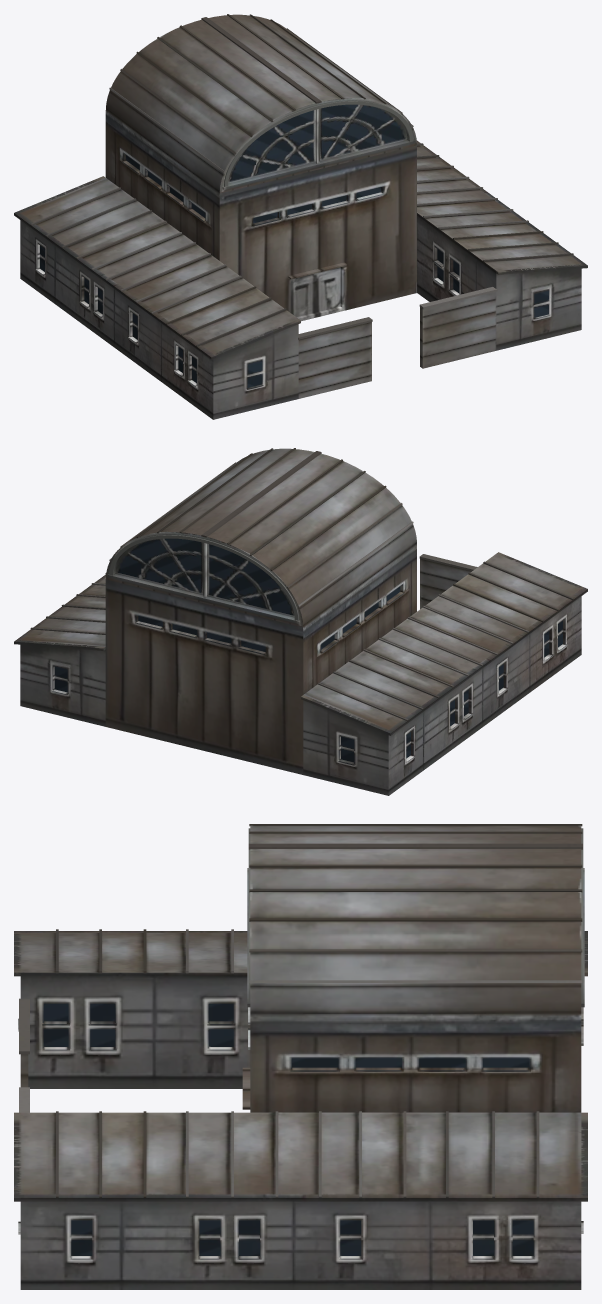
The model's file is meethall_cad.glb.
The picture shows the model from 3 angles, top to bottom: view 1: azimuth 30°, elevation 25°; view 2: azimuth 150°, elevation 25°; view 3: azimuth 270°, elevation 25°; orthographic projection. The views are drawn at different scales.
Visible parts, largest first — view 1: Box01; view 2: Box01; view 3: Box01.
Boxes of the visible parts, left/top/right/bottom form: Box01: left=14, top=14, right=587, bottom=419; Box01: left=14, top=448, right=587, bottom=795; Box01: left=14, top=824, right=587, bottom=1289.
Bounding box in the file's own units: 23.62 × 12.93 × 21.44.
1 material, 1 textured.
